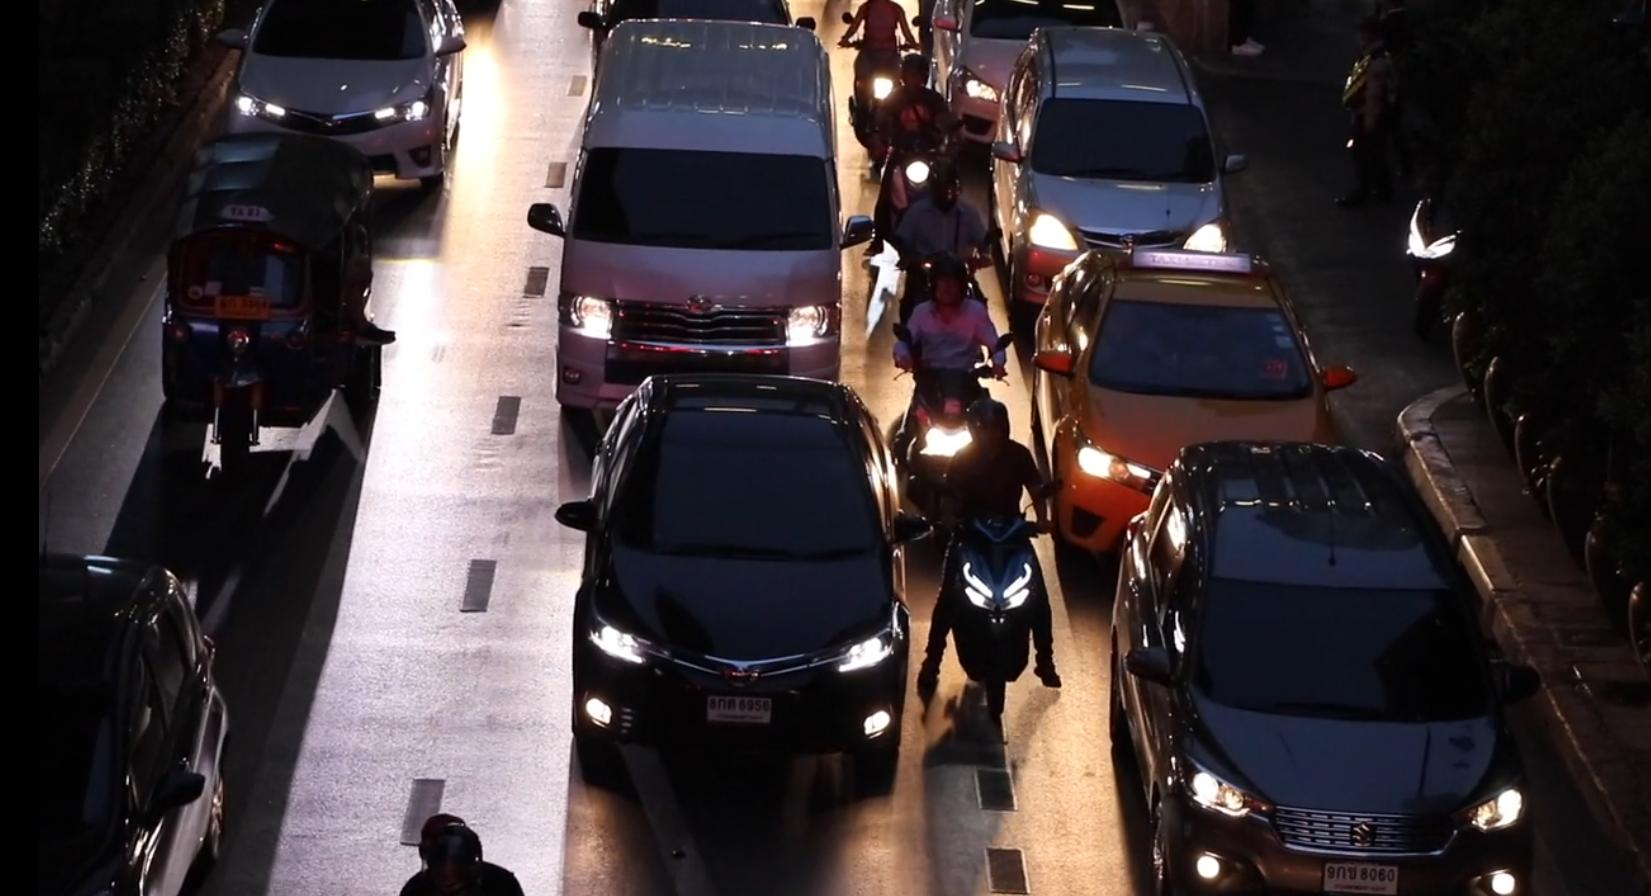car: (1126, 432, 1570, 896), (32, 510, 271, 893)
motorcycle: (928, 502, 1104, 705)
tricycle: (132, 136, 428, 494)
van: (564, 2, 864, 417)
